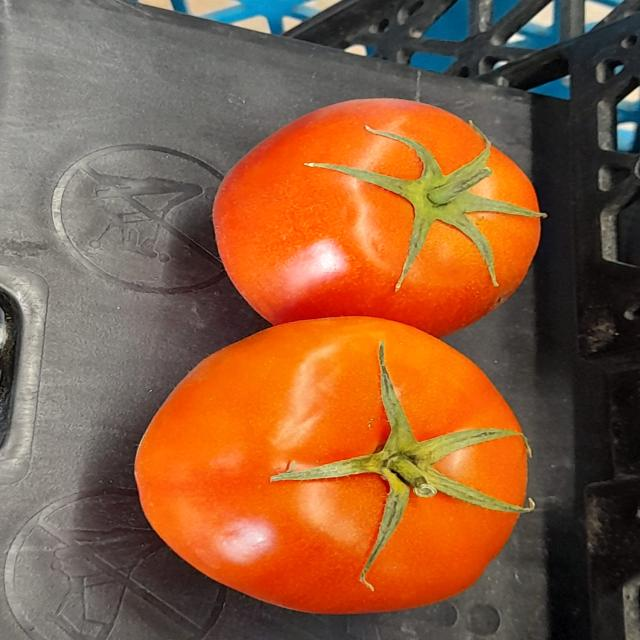tomato: (132, 317, 539, 620), (210, 91, 554, 336)
